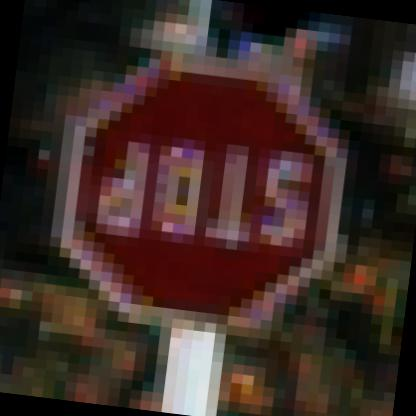stop: (20, 38, 368, 348)
